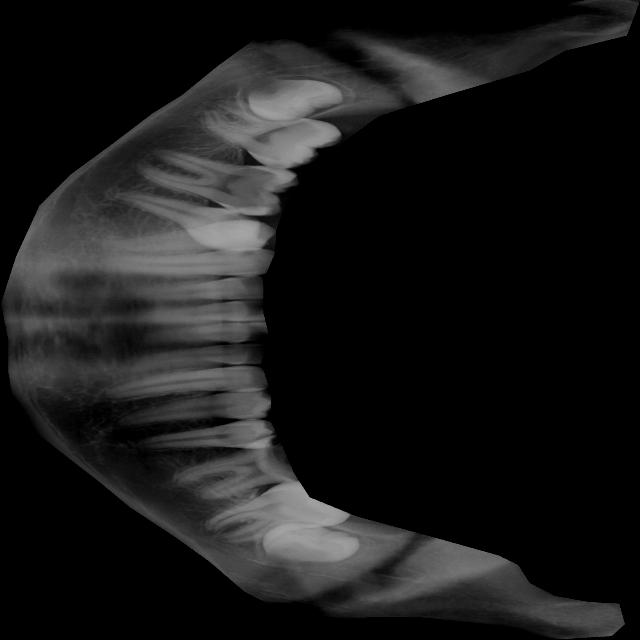mandibula: (0, 0, 640, 640)
